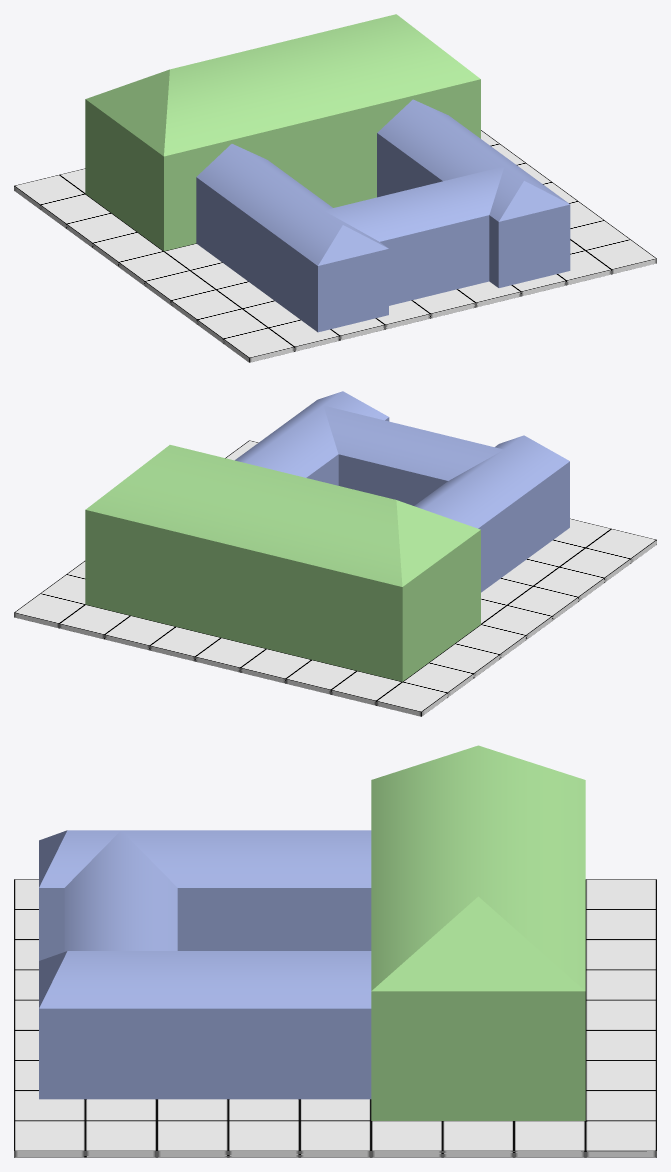
Rendered from XG_Alehouse.glb.
3 views of the same model, one above another, from view 1: azimuth 30°, elevation 25°; view 2: azimuth 150°, elevation 25°; view 3: azimuth 270°, elevation 25° (orthographic). The views are drawn at different scales.
Visible parts, largest first — view 1: building_7m_3m_024, ground_9_x_9_019, building_7m_3m_026, building_7m_3m_025, building_7m_3m_027; view 2: building_7m_3m_024, ground_9_x_9_019, building_7m_3m_026, building_7m_3m_027, building_7m_3m_025; view 3: building_7m_3m_024, ground_9_x_9_019, building_7m_3m_025, building_7m_3m_026, building_7m_3m_027.
Boxes of the visible parts, bbox=[...] form: building_7m_3m_024: bbox=[85, 14, 480, 251]; ground_9_x_9_019: bbox=[14, 130, 656, 362]; building_7m_3m_026: bbox=[196, 144, 388, 332]; building_7m_3m_025: bbox=[377, 99, 570, 287]; building_7m_3m_027: bbox=[324, 166, 504, 305]; building_7m_3m_024: bbox=[85, 445, 480, 681]; ground_9_x_9_019: bbox=[14, 440, 656, 716]; building_7m_3m_026: bbox=[414, 435, 569, 592]; building_7m_3m_027: bbox=[323, 405, 503, 505]; building_7m_3m_025: bbox=[235, 391, 389, 485]; building_7m_3m_024: bbox=[371, 745, 585, 1120]; ground_9_x_9_019: bbox=[14, 879, 656, 1157]; building_7m_3m_025: bbox=[39, 951, 371, 1099]; building_7m_3m_026: bbox=[39, 830, 371, 960]; building_7m_3m_027: bbox=[64, 830, 177, 951].
Size of the model in its own units: 9 by 3.1 by 9.
Materials: 3 (1 with a texture image).
